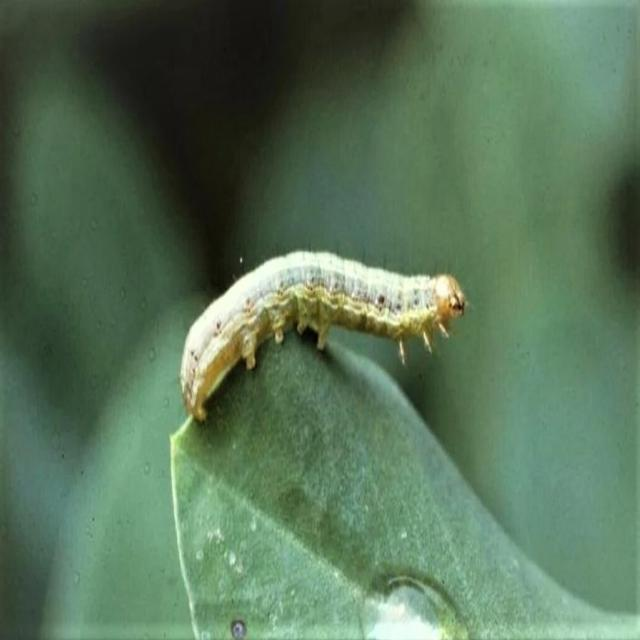armyworm: (179, 246, 467, 424)
